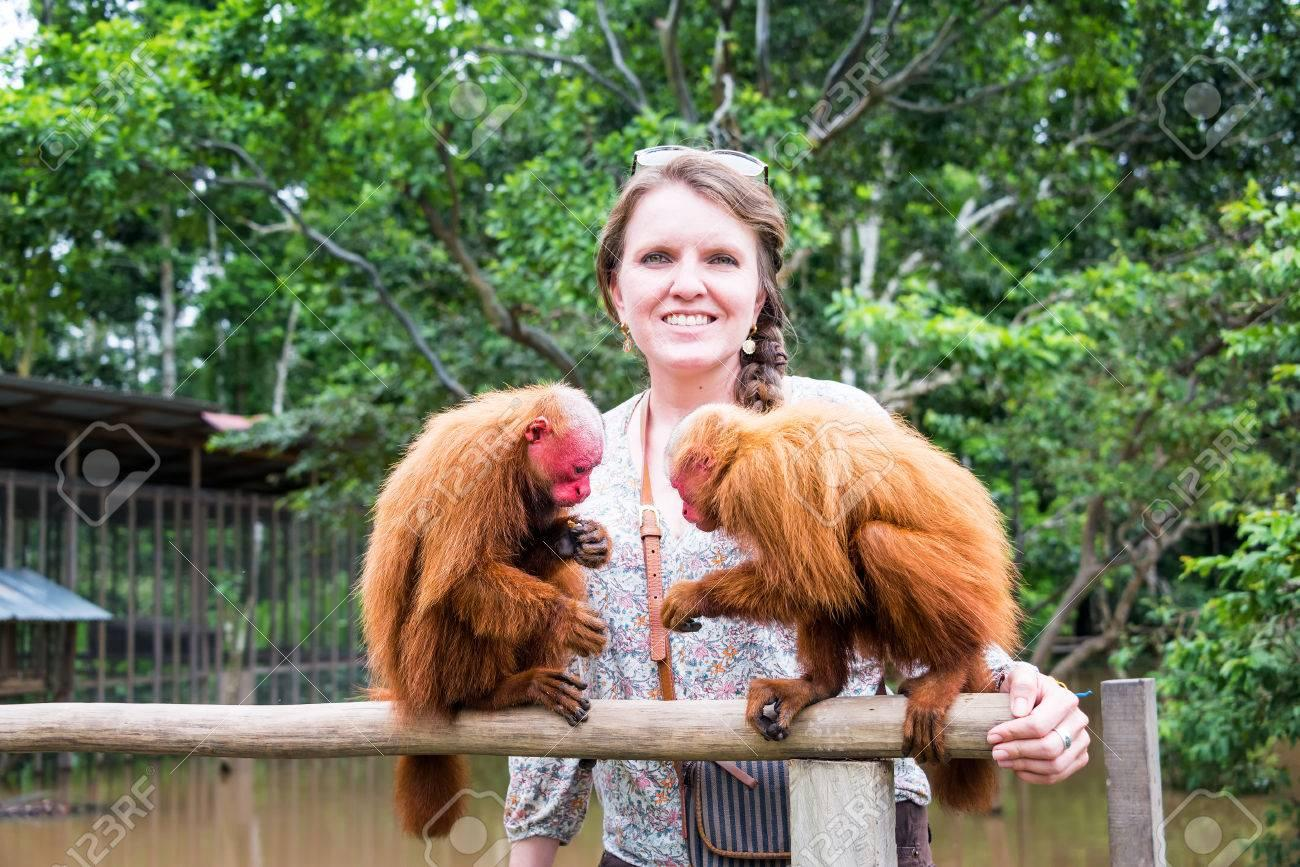monkey: (368, 377, 1021, 838)
